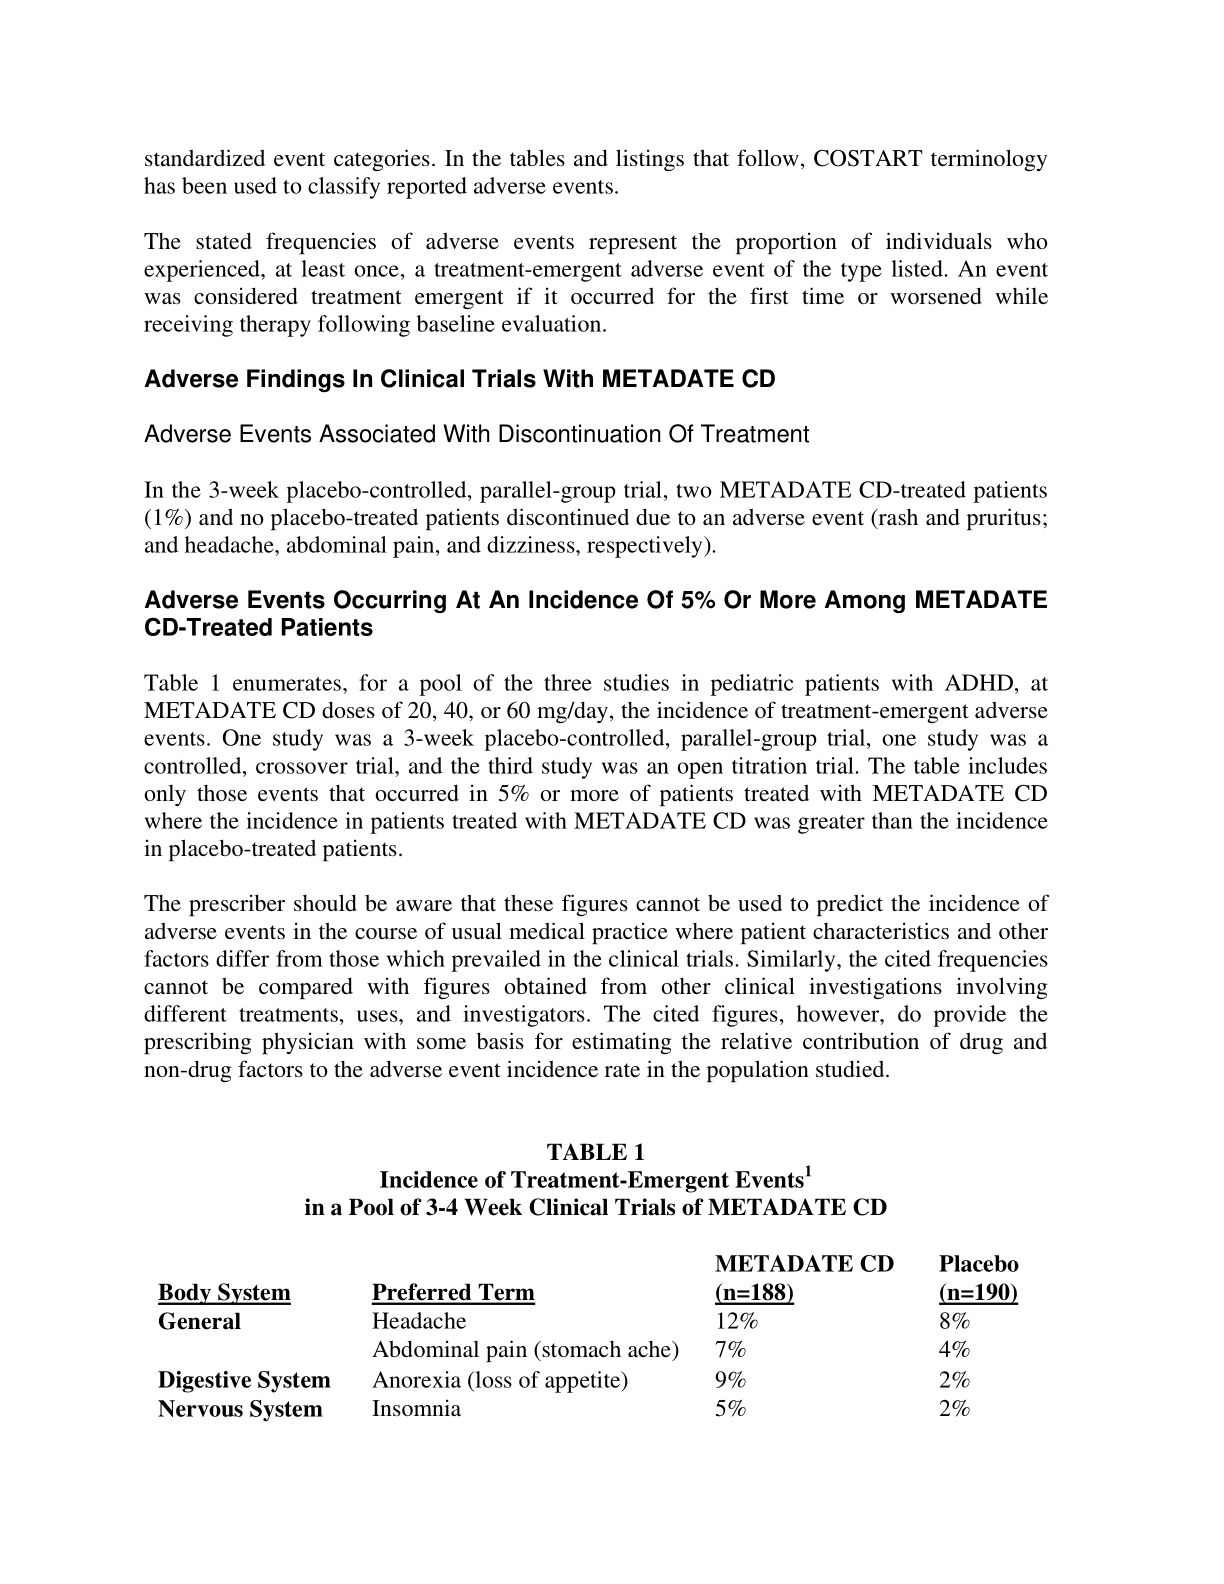nolines: (149, 1250, 1023, 1421)
